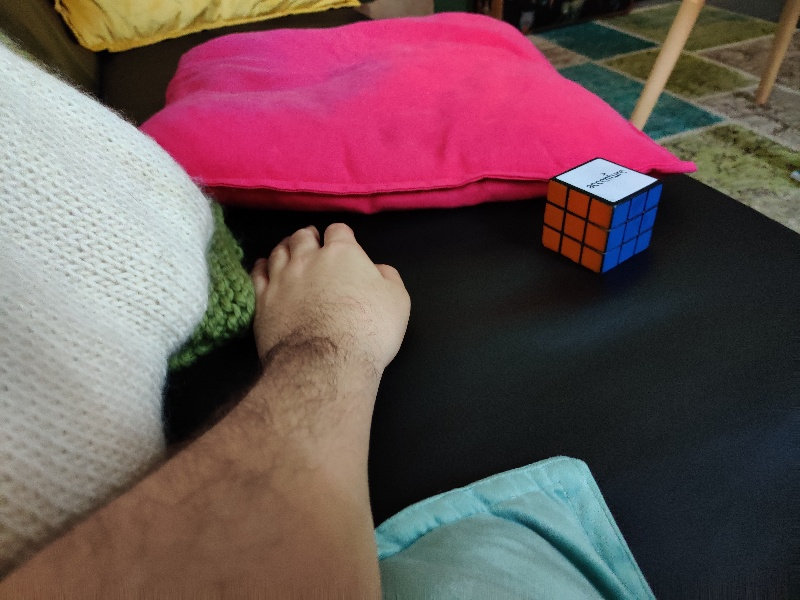rubik: (541, 157, 662, 273)
